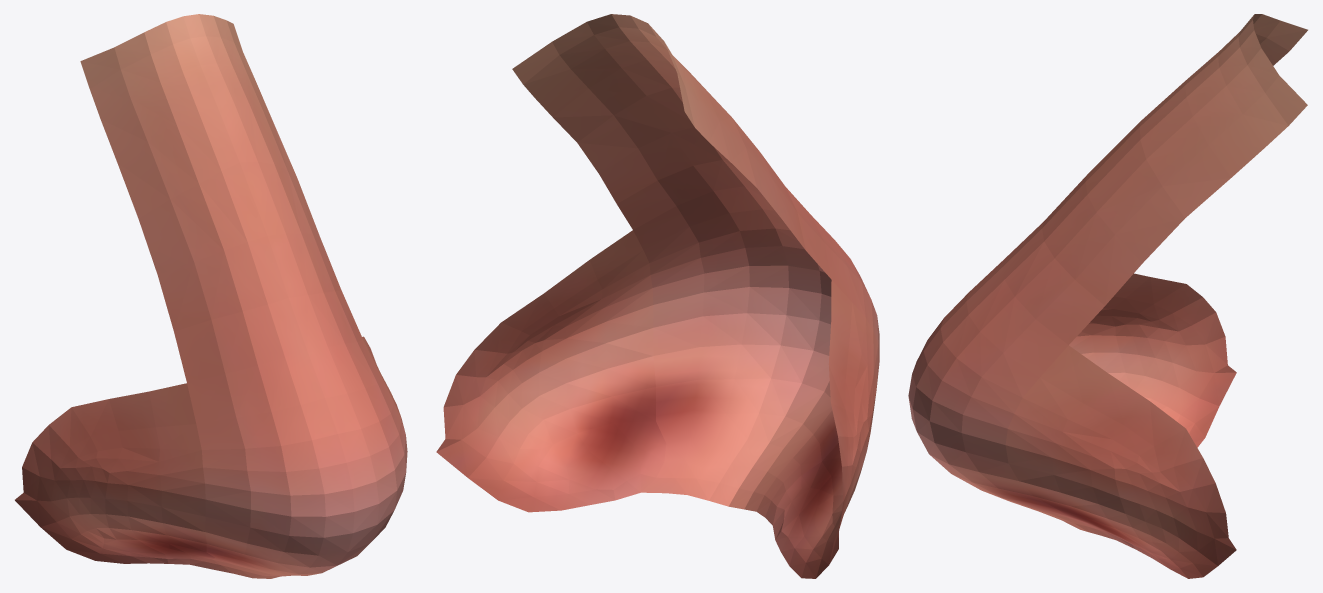
Rendered from euro-fem-nose-bridge-long.obj.
3 renders of one model, left to right at view 1: azimuth 30°, elevation 25°; view 2: azimuth 150°, elevation 25°; view 3: azimuth 270°, elevation 25°, orthographic. The views are drawn at different scales.
Parts seen in each view (by area): view 1: euro-fem-nose-bridge-long.010; view 2: euro-fem-nose-bridge-long.010; view 3: euro-fem-nose-bridge-long.010.
Boxes of the visible parts, left/top/right/bottom form: euro-fem-nose-bridge-long.010: left=15, top=14, right=407, bottom=578; euro-fem-nose-bridge-long.010: left=436, top=14, right=879, bottom=578; euro-fem-nose-bridge-long.010: left=908, top=14, right=1307, bottom=578.
Bounding box in the file's own units: 0.1845 × 0.2466 × 0.1772.
Materials: 1 (1 with a texture image).
